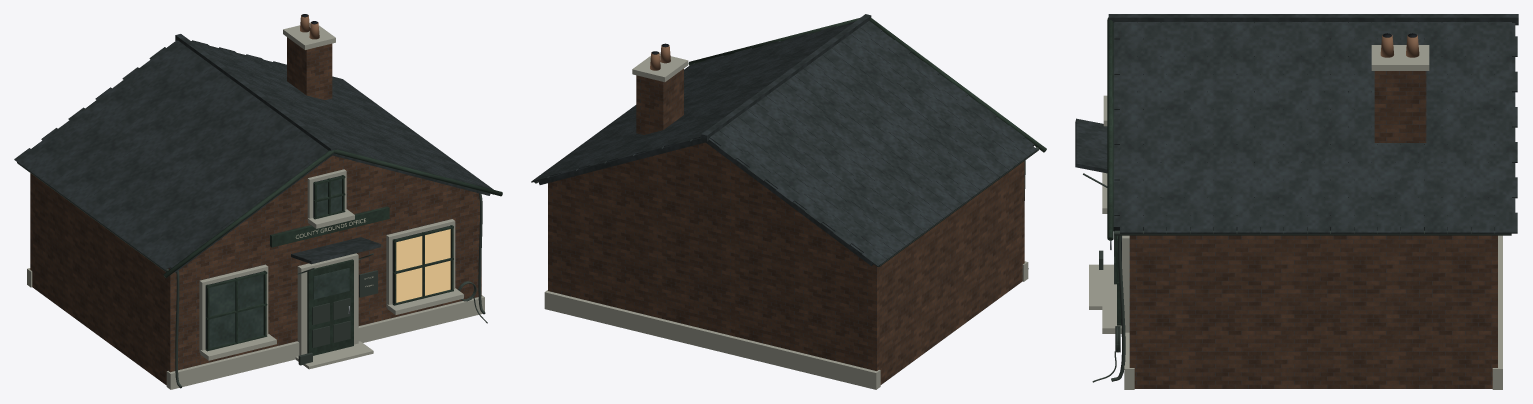
File: groundskeeper-lodge.glb
3 renders of one model, left to right at view 1: azimuth 30°, elevation 25°; view 2: azimuth 150°, elevation 25°; view 3: azimuth 270°, elevation 25°, orthographic. The views are drawn at different scales.
Parts seen in each view (by area): view 1: Lodge masonry, Gable masonry, Damp course, Grimed window, Grimed window.001, Chimney stack, Paneled keeper door, Recessed entrance, Ridge cap, County office sign, Porch lead roof, Recessed stone surround (+15 smaller); view 2: Lodge masonry, Gable masonry.001, Damp course.001, Chimney stack, Ridge cap, Slate roof underlay, Slate roof underlay.001, Gable bargeboard, Chimney crown, Gable bargeboard.001; view 3: Lodge masonry, Slate roof underlay.001, Chimney stack, Ridge cap, Porch lead roof, Gable bargeboard.001, Eaves gutter.001, Chimney crown, Damp course.001, Entrance threshold, Drip sill.001, Recessed stone surround.001 (+170 smaller).
Part boxes in pixels (<box>): Lodge masonry: <box>30,173,481,385</box>; Gable masonry: <box>194,155,471,258</box>; Damp course: <box>166,295,484,389</box>; Grimed window: <box>209,274,263,348</box>; Grimed window.001: <box>396,229,450,302</box>; Chimney stack: <box>287,37,332,99</box>; Paneled keeper door: <box>307,259,353,355</box>; Recessed entrance: <box>297,253,358,355</box>; Ridge cap: <box>175,34,336,154</box>; County office sign: <box>270,206,389,247</box>; Porch lead roof: <box>291,237,381,264</box>; Recessed stone surround: <box>199,264,268,352</box>; Lodge masonry: <box>548,161,1024,384</box>; Gable masonry.001: <box>559,142,851,251</box>; Damp course.001: <box>544,290,880,389</box>; Chimney stack: <box>636,69,683,134</box>; Ridge cap: <box>701,14,871,141</box>; Slate roof underlay: <box>704,31,1034,265</box>; Slate roof underlay.001: <box>538,24,847,184</box>; Gable bargeboard: <box>869,18,1046,152</box>; Chimney crown: <box>632,53,688,82</box>; Gable bargeboard.001: <box>688,18,859,65</box>; Lodge masonry: <box>1129,235,1497,388</box>; Slate roof underlay.001: <box>1113,23,1515,231</box>; Chimney stack: <box>1374,71,1426,142</box>; Ridge cap: <box>1108,14,1518,25</box>; Porch lead roof: <box>1075,118,1107,173</box>; Gable bargeboard.001: <box>1107,18,1113,240</box>; Eaves gutter.001: <box>1114,230,1511,235</box>; Chimney crown: <box>1371,45,1429,70</box>; Damp course.001: <box>1492,235,1502,389</box>; Entrance threshold: <box>1089,264,1113,309</box>; Drip sill.001: <box>1102,284,1121,333</box>; Recessed stone surround.001: <box>1122,235,1129,332</box>.
Bounding box in the file's own units: 9.77 × 6.49 × 8.43.
Materials: 11 (4 with a texture image).
